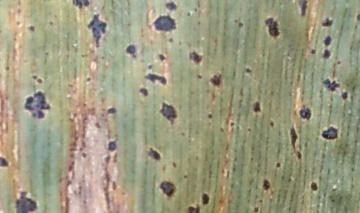tarspot: (23, 90, 52, 119), (87, 14, 108, 48), (150, 13, 180, 35), (158, 101, 180, 126), (14, 191, 37, 213), (264, 16, 282, 38), (143, 72, 167, 86), (288, 122, 299, 151), (158, 179, 175, 197), (321, 77, 340, 93), (145, 146, 162, 161), (321, 125, 339, 139), (298, 105, 313, 121), (188, 50, 203, 65), (296, 1, 310, 17), (209, 73, 223, 88), (125, 44, 138, 58), (71, 1, 89, 10), (106, 139, 118, 152), (164, 1, 178, 12), (186, 203, 201, 213), (321, 16, 333, 28), (252, 100, 261, 115), (322, 35, 333, 47), (261, 178, 271, 191), (201, 191, 210, 205), (1, 155, 10, 169), (138, 86, 149, 97), (321, 48, 331, 60), (105, 106, 117, 116), (309, 181, 319, 192), (25, 24, 36, 34), (296, 149, 303, 162), (157, 52, 166, 62), (341, 90, 348, 101), (244, 66, 253, 74), (236, 21, 245, 29), (206, 111, 213, 121), (309, 48, 316, 56), (268, 120, 275, 128), (146, 63, 154, 70), (4, 65, 11, 73), (228, 120, 235, 128), (185, 11, 192, 19), (167, 37, 175, 44), (171, 160, 177, 169), (196, 19, 202, 28), (355, 12, 360, 22), (94, 122, 101, 129), (85, 76, 92, 83), (196, 73, 203, 80), (182, 173, 189, 180), (253, 205, 259, 213), (29, 74, 37, 80), (36, 78, 44, 84), (81, 151, 87, 159), (47, 20, 55, 26), (15, 19, 21, 27), (245, 127, 253, 133), (177, 39, 183, 47), (335, 59, 342, 65), (275, 161, 281, 168), (43, 50, 50, 56), (192, 5, 197, 13)
